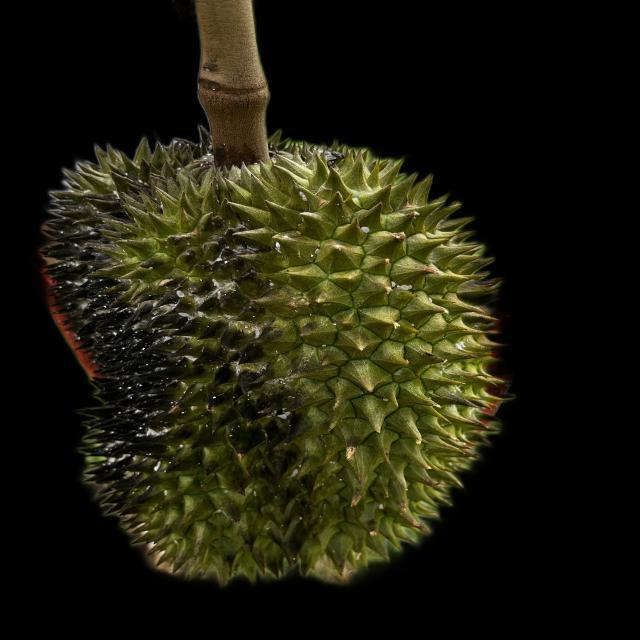defective: (39, 135, 511, 578)
